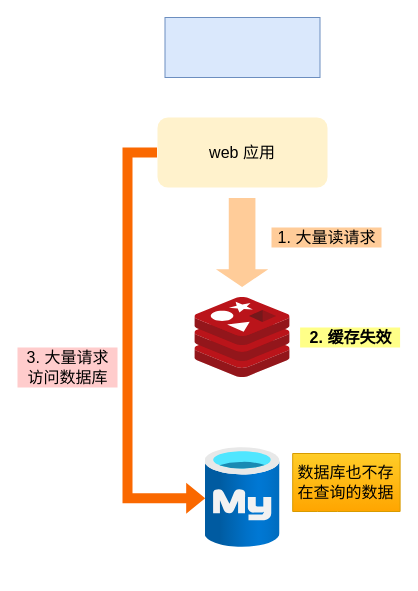
Some shapes in this 418 by 591 pixel diagram are drawn without their labels. The shapes that lost their labels are listed below. From the top down, each one's centre as x and y in pixels, then its label:
At (x=242, y=47): "缓存穿透".
At (x=242, y=337): "缓存".
At (x=242, y=497): "数据库".
